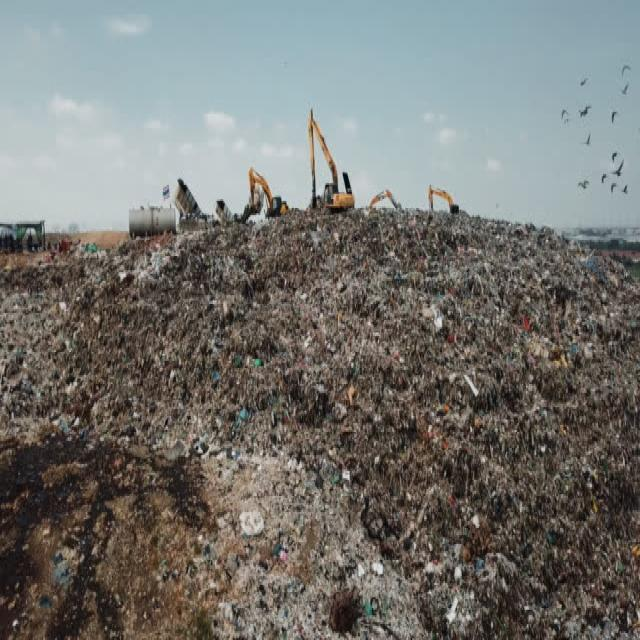plastic: (26, 226, 579, 626)
